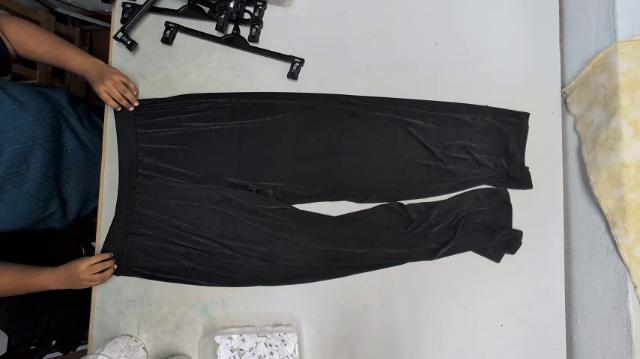new-garment: (103, 92, 531, 286)
